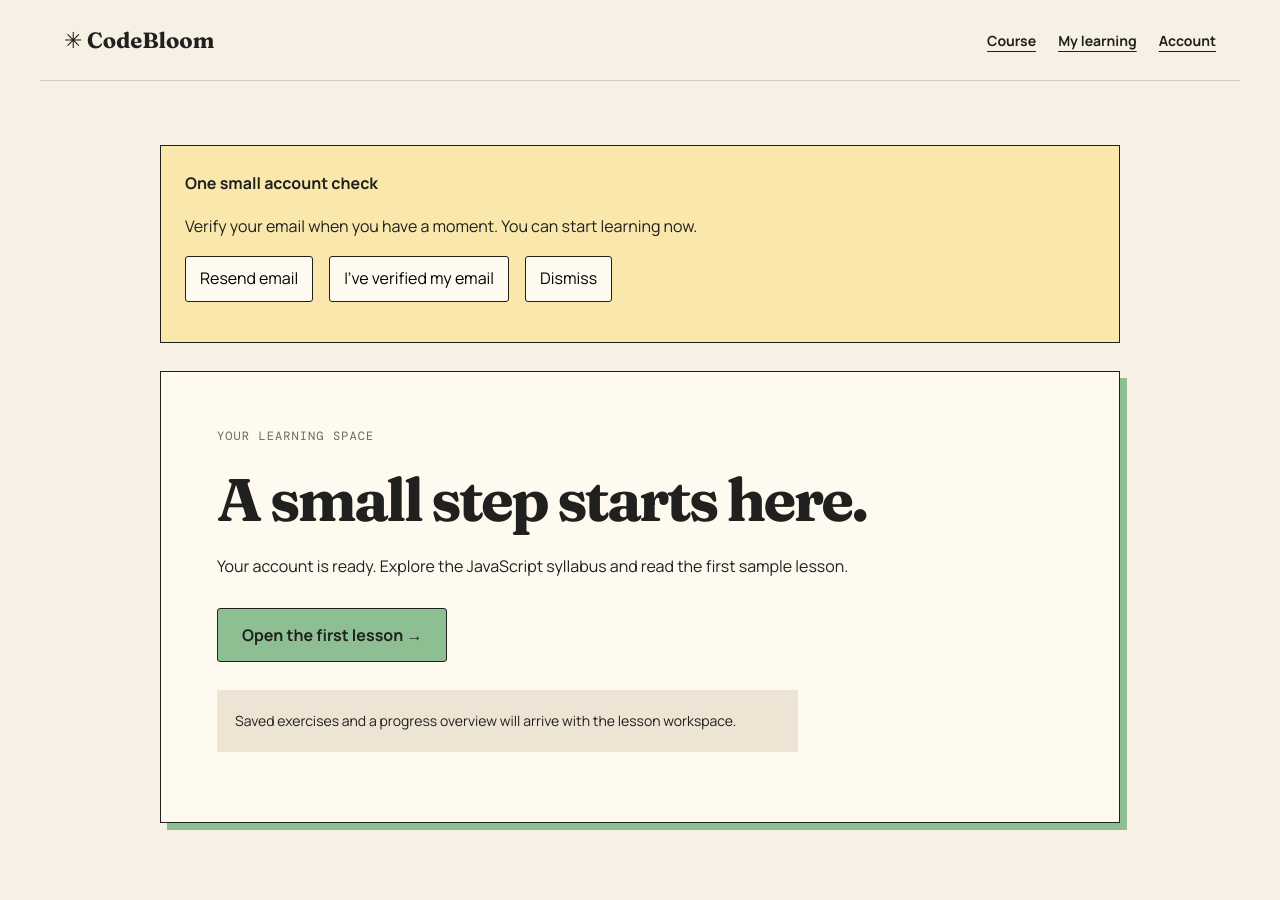
Test: account and lesson routes › resends verification without preventing access to the dashboard
Click the button "Resend email" at x=249, y=279, box [185,256,313,302]
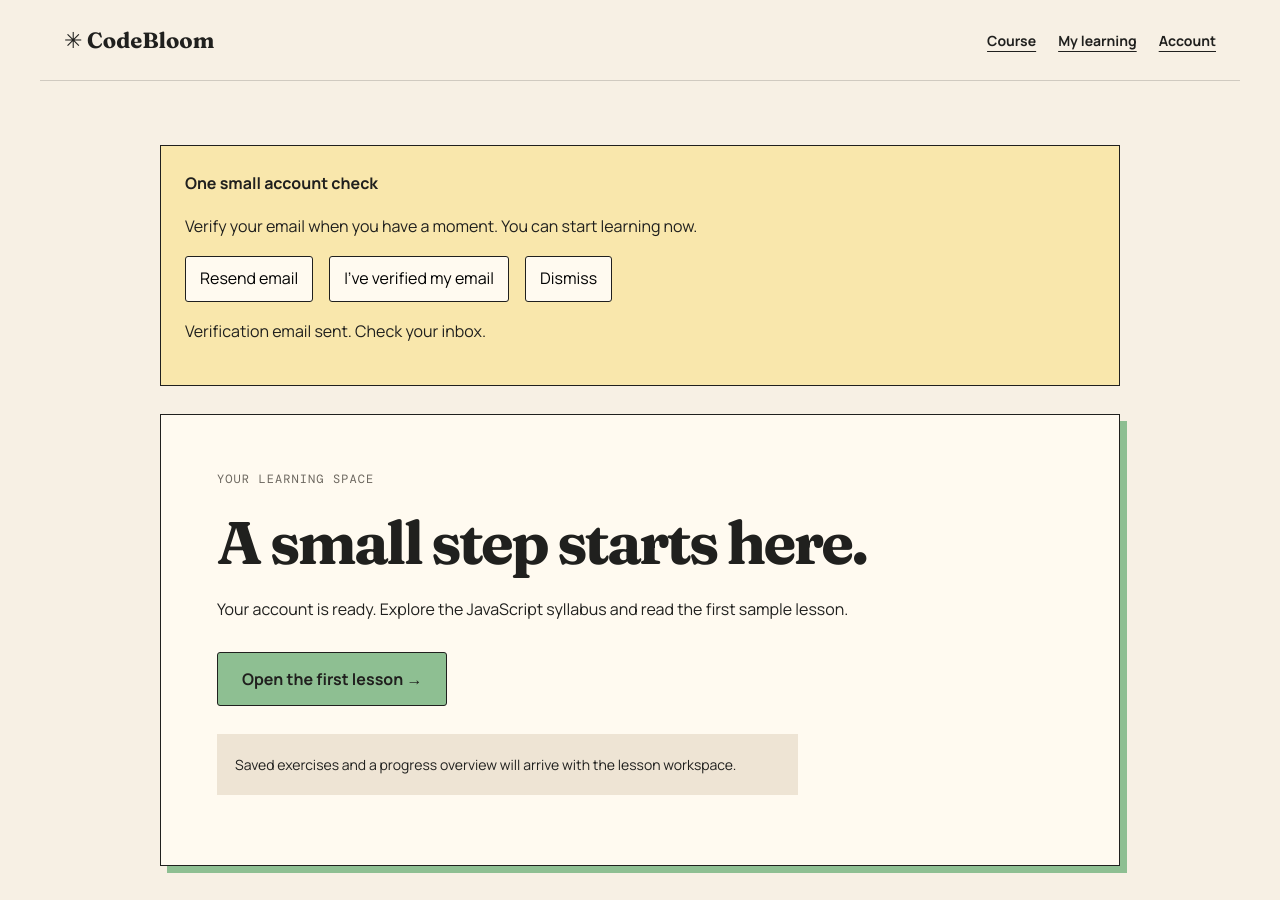
Expected: the link "Open the first lesson →" is shown, [217,652,447,706]
Now the text "Verification email sent. Check your inbox." is shown, box [185,320,486,342]
